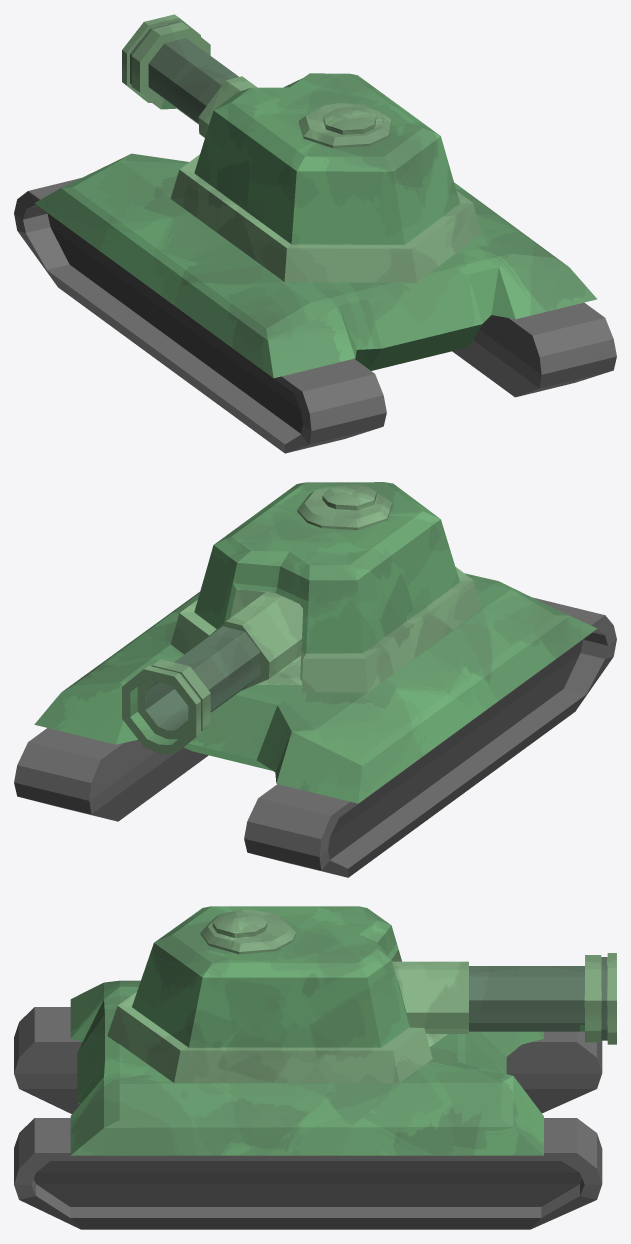
File: tank_model_1.0.fbx
The picture shows the model from 3 angles, top to bottom: view 1: azimuth 30°, elevation 25°; view 2: azimuth 150°, elevation 25°; view 3: azimuth 270°, elevation 25°; orthographic projection.
Parts seen in each view (by area): view 1: Cylinder.006, Cylinder.009, Cylinder.007, Cylinder.008; view 2: Cylinder.006, Cylinder.009, Cylinder.007, Cylinder.008; view 3: Cylinder.006, Cylinder.009, Cylinder.007, Cylinder.008.
Boxes of the visible parts, x1,y1,x2,y2 form: Cylinder.006: (14, 153, 616, 453); Cylinder.009: (170, 73, 481, 283); Cylinder.007: (122, 14, 238, 124); Cylinder.008: (198, 76, 257, 137); Cylinder.006: (14, 573, 616, 877); Cylinder.009: (170, 482, 481, 692); Cylinder.007: (122, 626, 260, 754); Cylinder.008: (206, 592, 302, 690); Cylinder.006: (14, 980, 602, 1229); Cylinder.009: (107, 906, 446, 1083); Cylinder.007: (469, 953, 616, 1044); Cylinder.008: (392, 961, 468, 1033).
Size of the model in its own units: 60.24 by 36.94 by 26.48.
